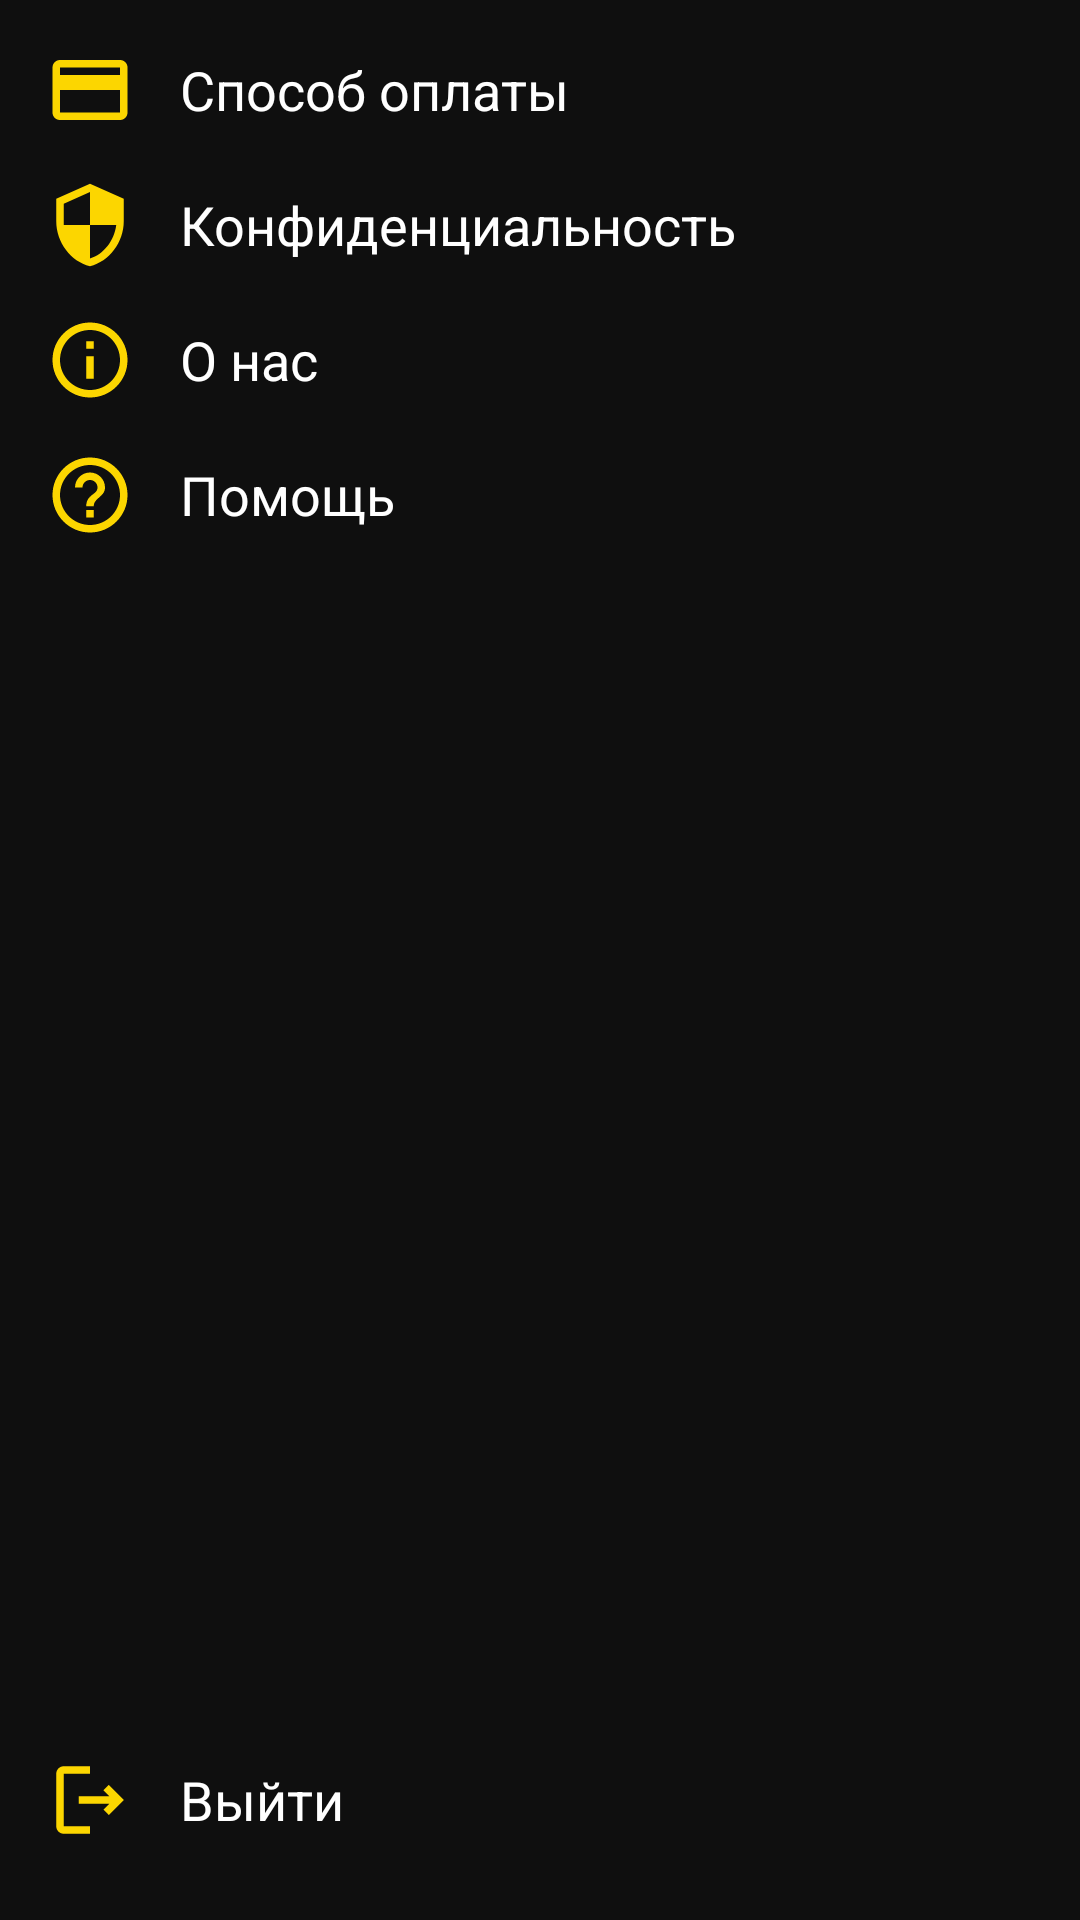

Named icons in this screenshot (1080 × 1920) and their bounding boxes, (x1, y1, x2, y2):
card: (52, 60, 128, 120)
help: (52, 457, 128, 533)
info: (52, 322, 128, 398)
security: (56, 184, 124, 267)
